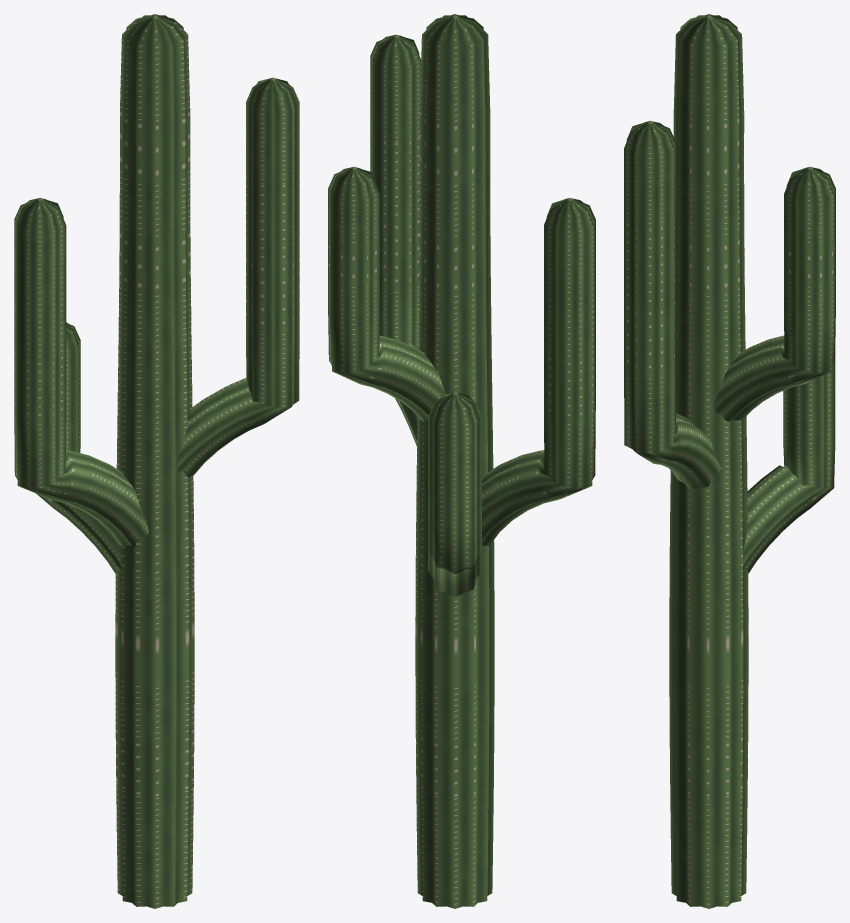
File: veg_saguaro_a.fbx
3 views of the same model, side by side, from view 1: azimuth 30°, elevation 25°; view 2: azimuth 150°, elevation 25°; view 3: azimuth 270°, elevation 25° (orthographic).
Parts seen in each view (by area): view 1: veg_saguaro_a_LOD0; view 2: veg_saguaro_a_LOD0; view 3: veg_saguaro_a_LOD0.
Boxes of the visible parts, bbox=[...] form: veg_saguaro_a_LOD0: bbox=[14, 14, 299, 908]; veg_saguaro_a_LOD0: bbox=[328, 14, 595, 908]; veg_saguaro_a_LOD0: bbox=[624, 14, 835, 908].
Size of what is drawn, in the model's own units: 2.47 by 8.32 by 1.82.
1 material, 1 textured.
